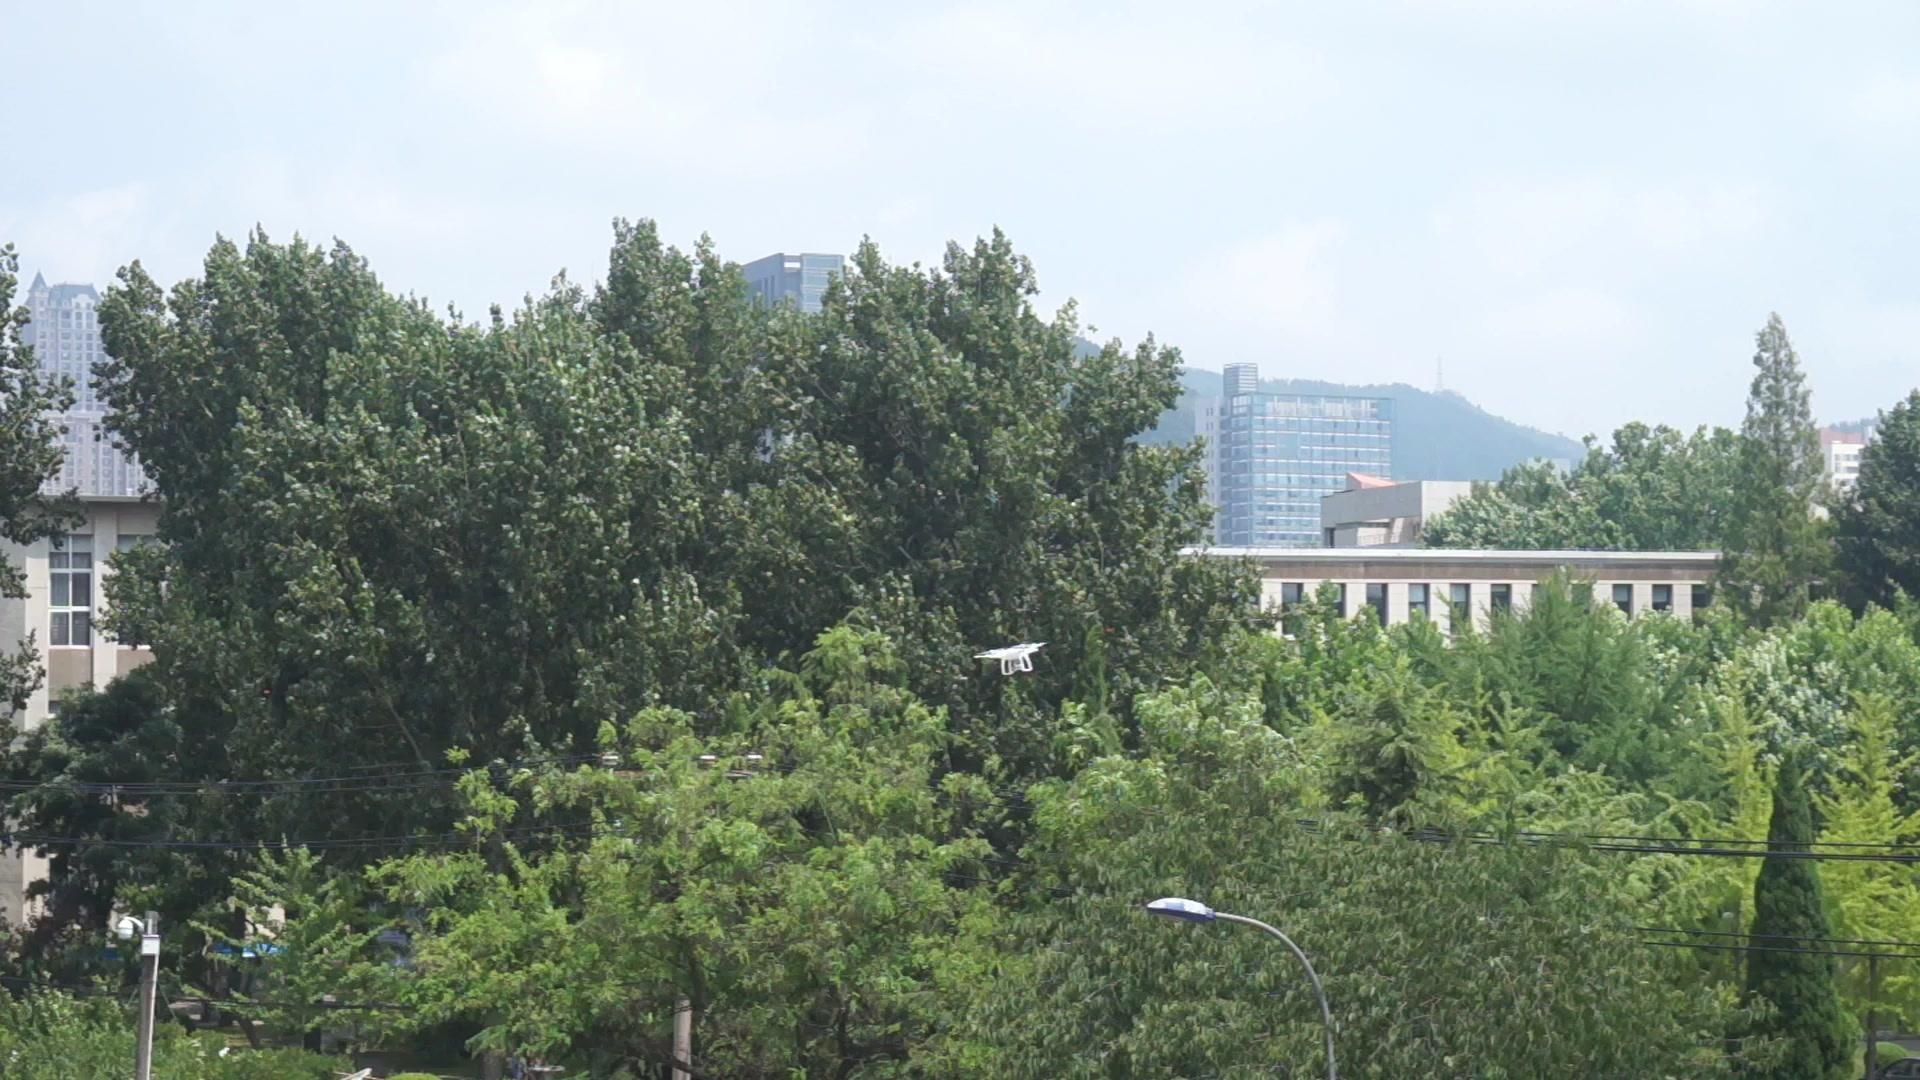UAV: (975, 644, 1050, 676)
